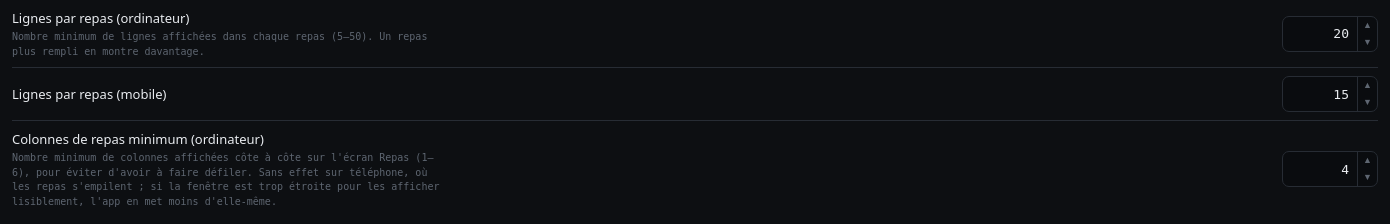
Scenario: MealLinesFields — minimum meal columns (B-244) › does not save while the typed value is out of range, and clamps it on blur
Replace the text in the number field named "Colonnes de repas minimum (ordinateur)" with "9" at coordinates (1330, 169), box [1282,151,1378,187]
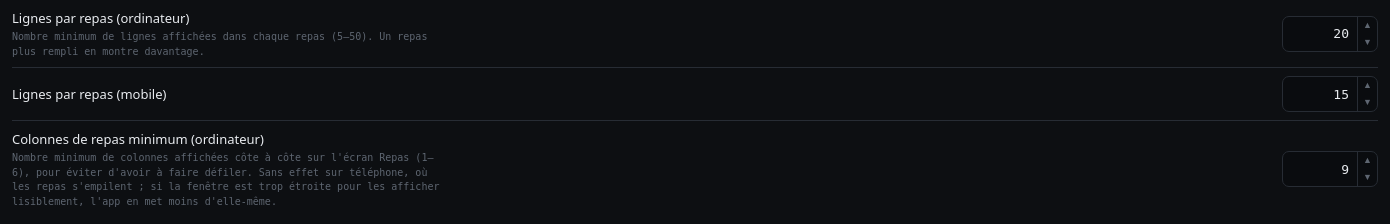
Leave the number field named "Colonnes de repas minimum (ordinateur)", box [1282,151,1378,187]
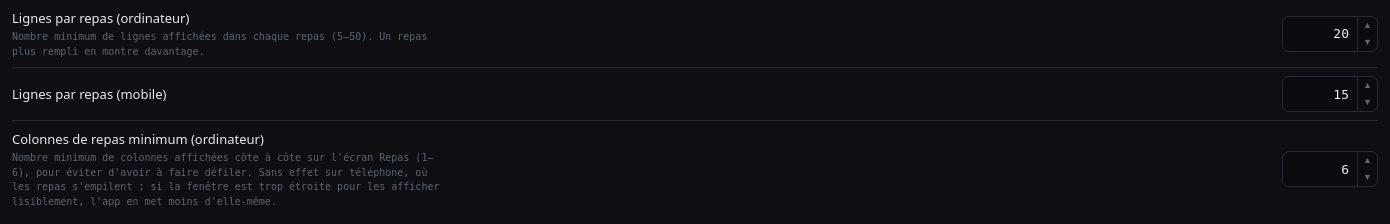
expect the number field named "Colonnes de repas minimum (ordinateur)" holds "6": met, box [1282,151,1378,187]
